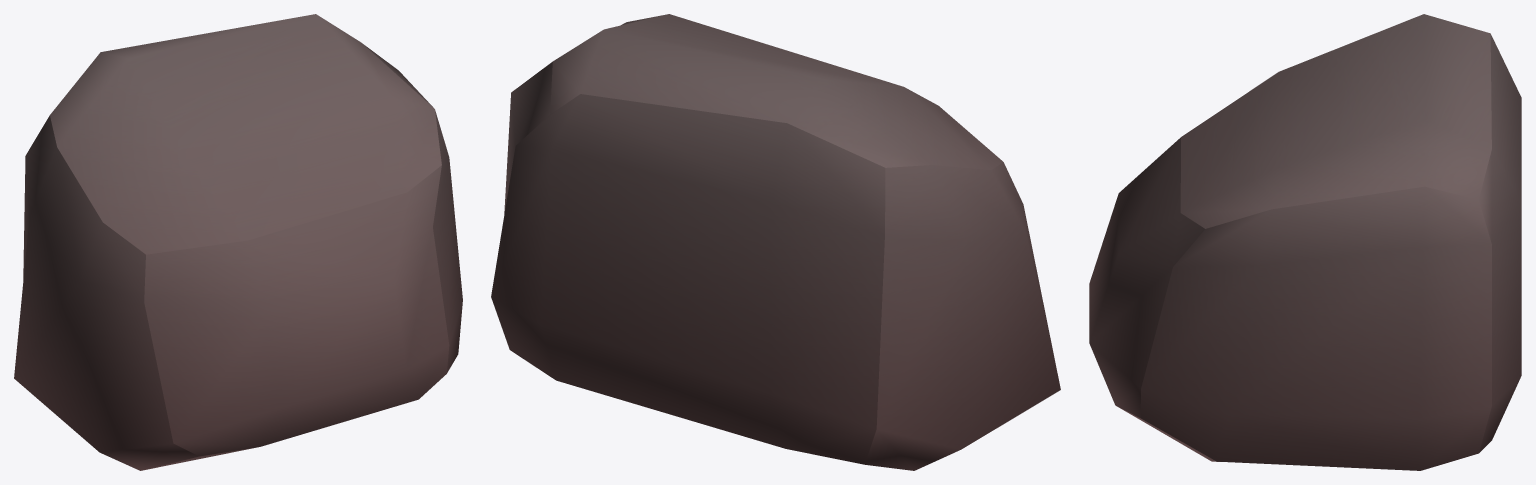
The model's file is ENV_Rock1.fbx.
3 renders of one model, left to right at view 1: azimuth 30°, elevation 25°; view 2: azimuth 150°, elevation 25°; view 3: azimuth 270°, elevation 25°, orthographic. The views are drawn at different scales.
Parts seen in each view (by area): view 1: Rock; view 2: Rock; view 3: Rock.
Part boxes in pixels (x1,y1,x2,y2): Rock: [14, 14, 462, 470]; Rock: [491, 14, 1060, 470]; Rock: [1089, 14, 1521, 470].
Bounding box in the file's own units: 44.51 × 35.17 × 37.84.
